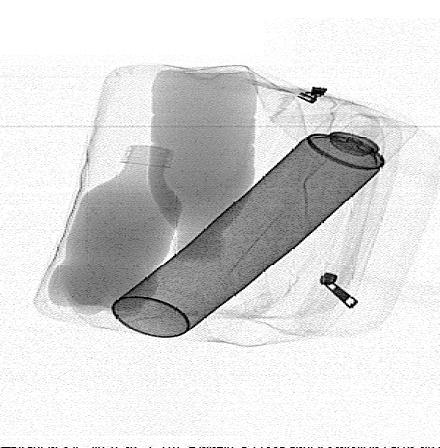Sprayer: (113, 100, 419, 339)
